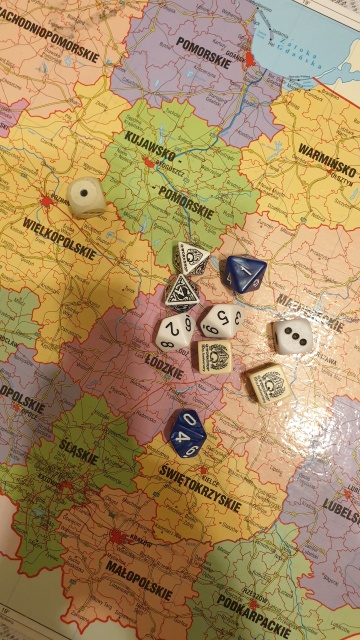d10-1: (231, 251, 261, 290)
d10-2: (150, 312, 200, 352)
d10-4: (164, 406, 208, 463)
d10-5: (197, 300, 246, 338)
d6-1: (67, 176, 103, 212)
d6-3: (269, 313, 315, 356)
d6p-6: (249, 362, 290, 407), (192, 338, 233, 377)
d8p-4: (161, 272, 203, 313)
d8p-8: (173, 238, 211, 281)
